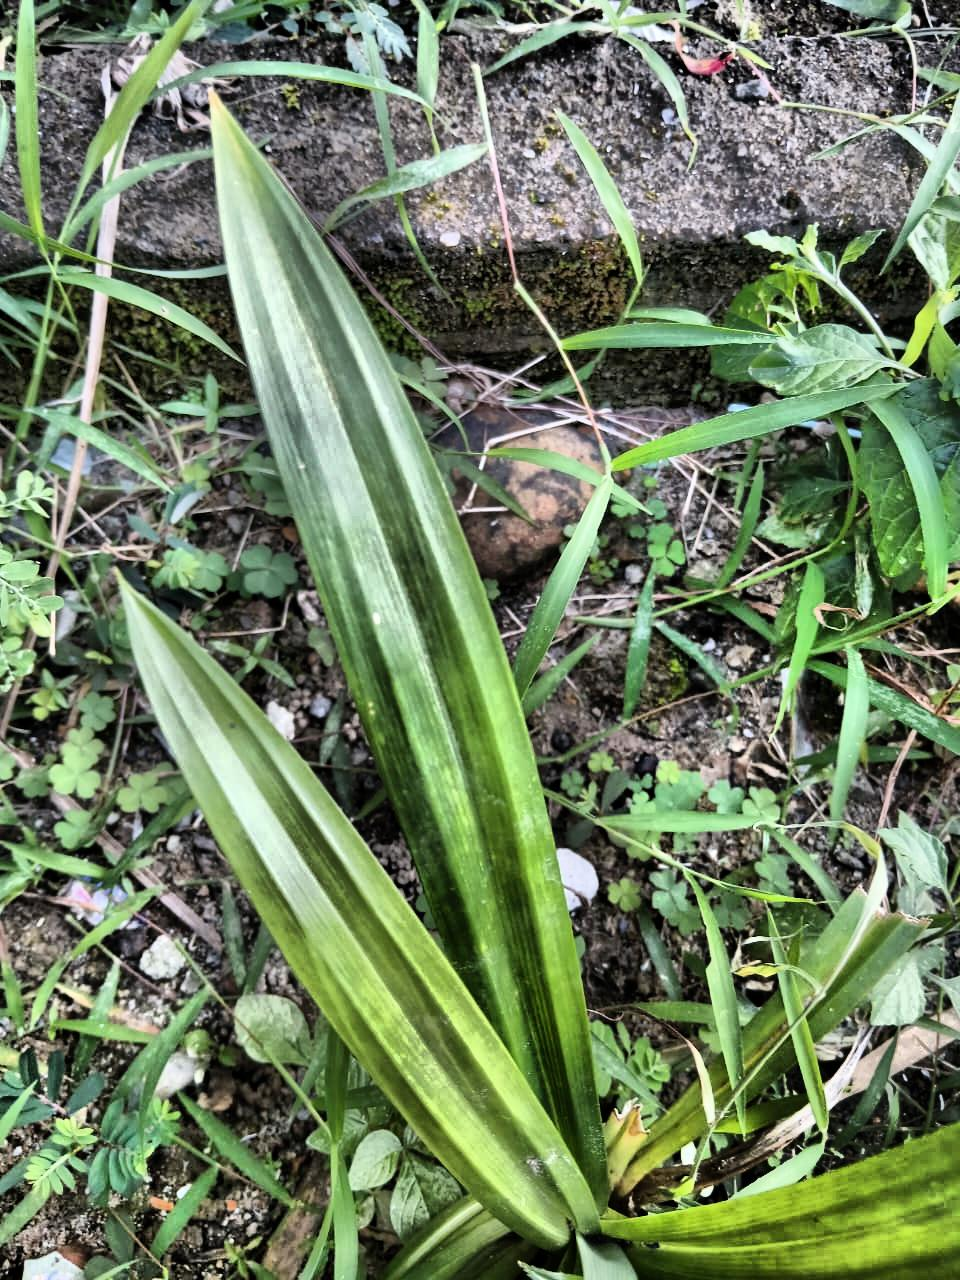daun pandan: (121, 96, 959, 1279)
